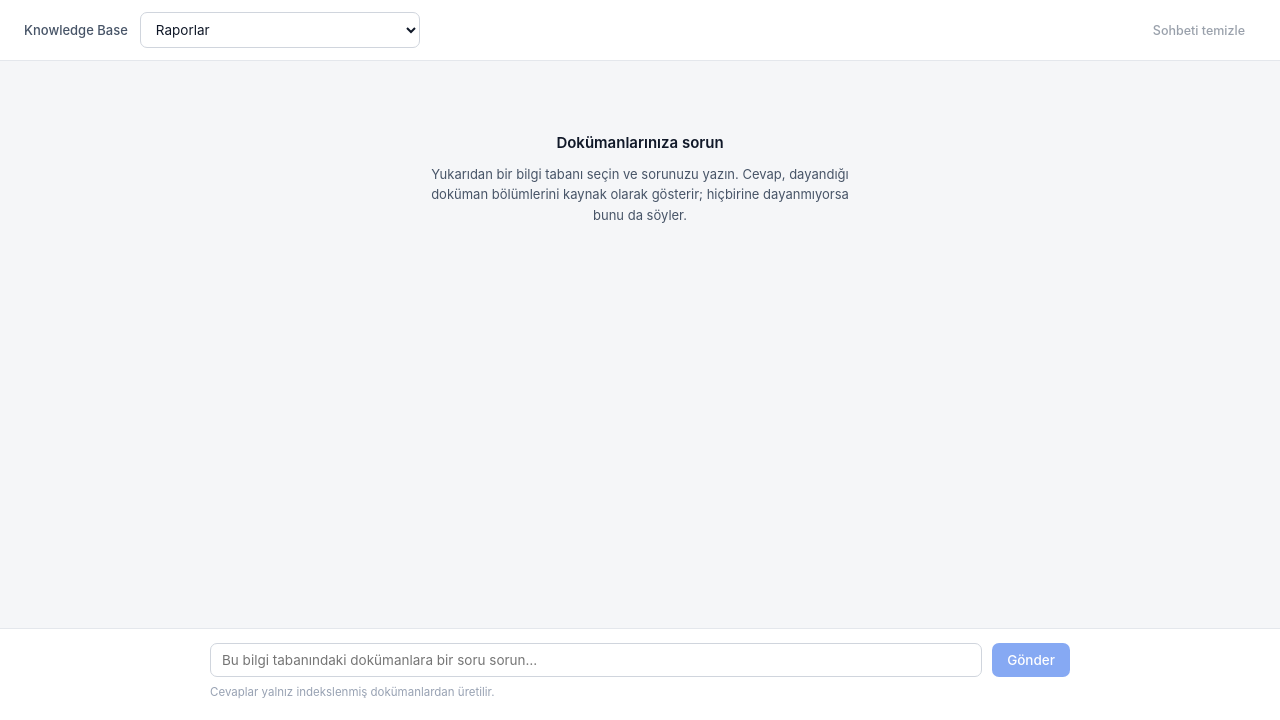
Test: Sohbet › says so when the model cited nothing
Type "kaynaksız soru" into the field with placeholder "Bu bilgi tabanındaki dokümanlara bir soru sorun…" at {"x": 596, "y": 660}, box [210,643,982,677]
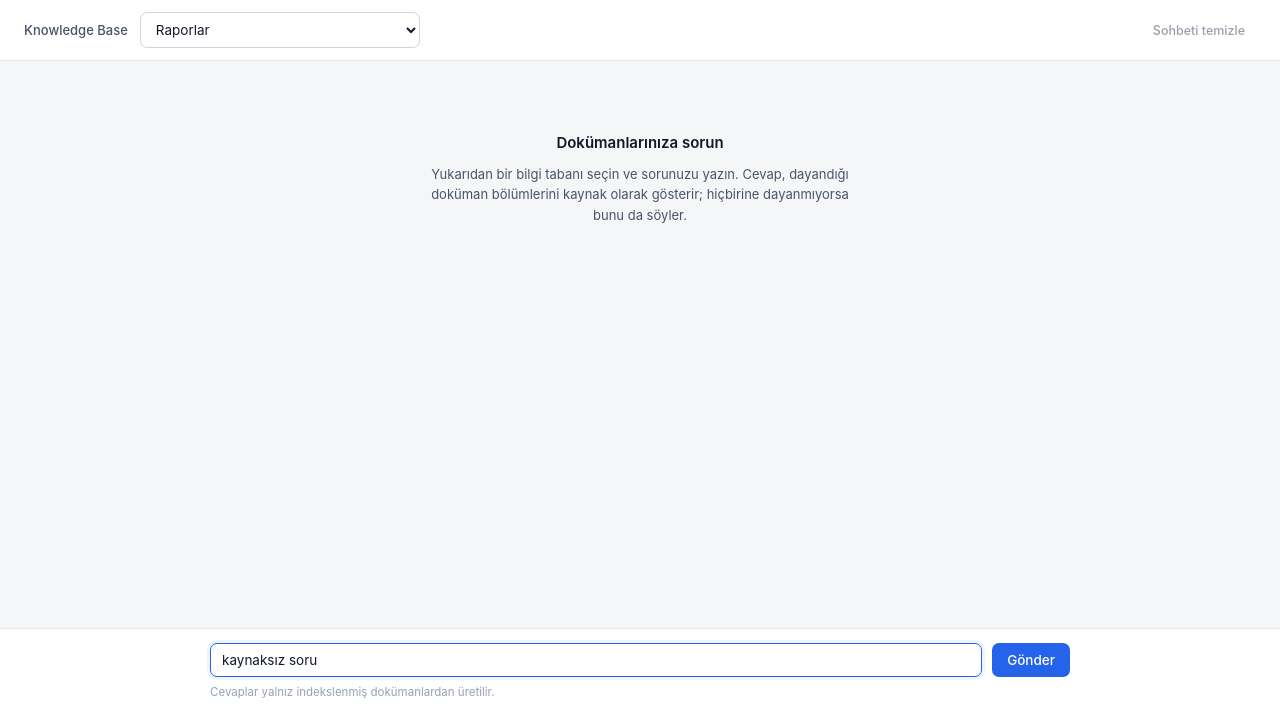
Click the button "Gönder" at {"x": 1031, "y": 660}, box [992,643,1070,677]
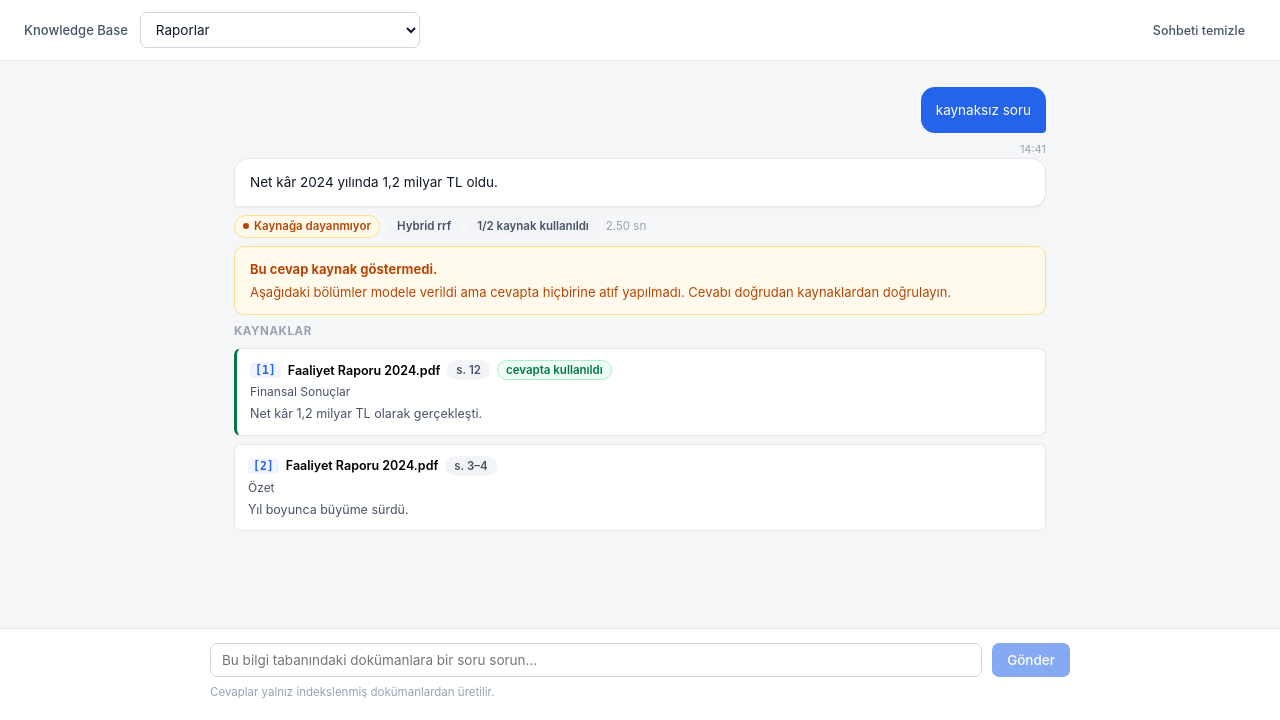
Expected: the text "Kaynağa dayanmıyor" is shown, [234,215,380,238]
Expected: the text "Bu cevap kaynak göstermedi." is shown, [250,261,437,277]
